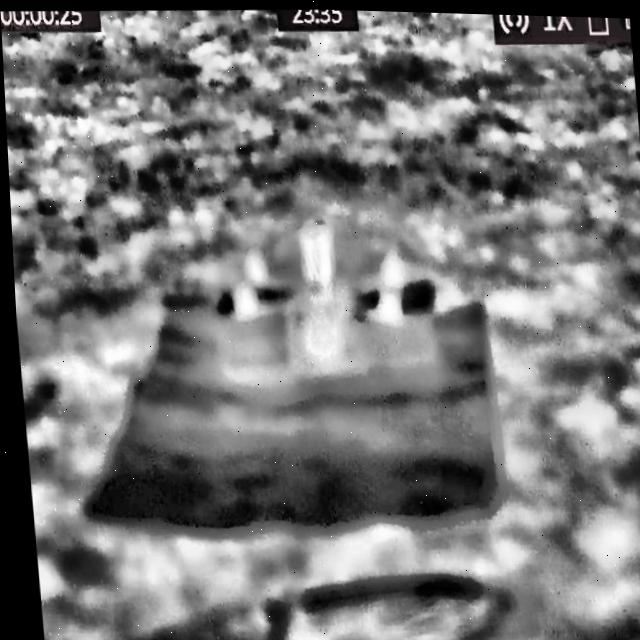drone: (225, 216, 410, 380)
